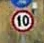limite 10: (10, 9, 34, 33)
